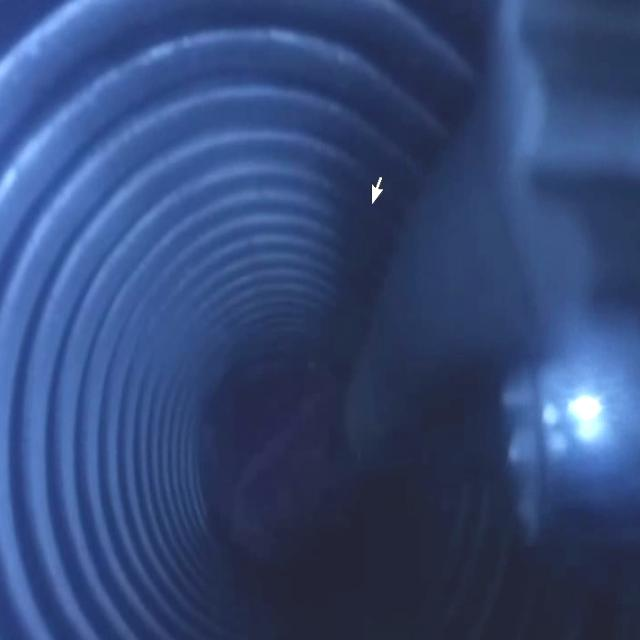metal piece: (494, 0, 640, 530)
